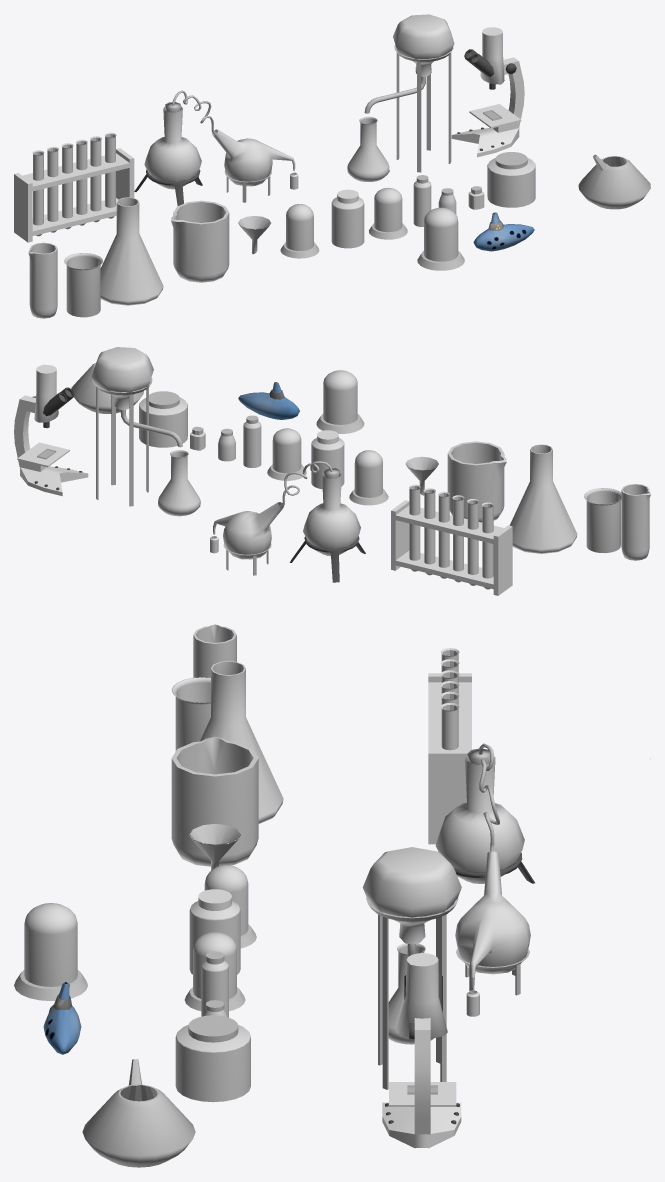
File: lab_assets.fbx
3 views of the same model, one above another, from view 1: azimuth 30°, elevation 25°; view 2: azimuth 150°, elevation 25°; view 3: azimuth 270°, elevation 25° (orthographic). The views are drawn at different scales.
Parts seen in each view (by area): view 1: polySurface4986, lab_assets25:test, polySurface5141, polySurface5164, lab_assets25:pCylinder4, lab_assets25:polySurface1, lab_assets25:small_pot, lab_assets25:pCylinder50, lab_assets25:glas_bell, polySurface5139, lab_assets25:polySurface33, polySurface5162 (+5 smaller); view 2: polySurface4986, polySurface5141, lab_assets25:test, polySurface5164, lab_assets25:pCylinder4, lab_assets25:polySurface1, lab_assets25:glas_bell, polySurface5139, lab_assets25:pCylinder50, lab_assets25:polySurface33, lab_assets25:polySurface42, lab_assets25:gas_bell (+6 smaller); view 3: polySurface5141, lab_assets25:test, lab_assets25:polySurface1, polySurface5164, lab_assets25:small_pot, polySurface4986, lab_assets25:pCylinder50, lab_assets25:glas_bell, lab_assets25:pCylinder4, polySurface5162, polySurface5139, lab_assets25:gas_bell (+5 smaller).
Boxes of the visible parts, x1,y1,x2,y2 form: polySurface4986: (14, 132, 134, 242); lab_assets25:test: (347, 14, 454, 181); polySurface5141: (134, 90, 298, 205); polySurface5164: (451, 27, 524, 157); lab_assets25:pCylinder4: (100, 197, 163, 305); lab_assets25:polySurface1: (171, 200, 229, 282); lab_assets25:small_pot: (578, 154, 650, 209); lab_assets25:pCylinder50: (487, 152, 535, 207); lab_assets25:glas_bell: (417, 207, 464, 270); polySurface5139: (64, 253, 102, 317); lab_assets25:polySurface33: (28, 242, 57, 318); polySurface5162: (331, 189, 364, 248); polySurface4986: (391, 484, 512, 595); polySurface5141: (210, 461, 365, 582); lab_assets25:test: (91, 347, 200, 516); polySurface5164: (14, 364, 88, 496); lab_assets25:pCylinder4: (509, 444, 577, 553); lab_assets25:polySurface1: (447, 441, 506, 522); lab_assets25:glas_bell: (316, 370, 364, 433); polySurface5139: (584, 488, 621, 553); lab_assets25:pCylinder50: (139, 391, 187, 447); lab_assets25:polySurface33: (621, 484, 650, 560); lab_assets25:polySurface42: (349, 450, 388, 505); lab_assets25:gas_bell: (267, 428, 306, 480); polySurface5141: (435, 743, 534, 1016); lab_assets25:test: (362, 847, 461, 1089); lab_assets25:polySurface1: (171, 736, 258, 866); polySurface5164: (382, 953, 461, 1148); lab_assets25:small_pot: (82, 1059, 195, 1167); polySurface4986: (428, 648, 471, 844); lab_assets25:pCylinder50: (175, 1015, 250, 1102); lab_assets25:glas_bell: (14, 903, 87, 1000); lab_assets25:pCylinder4: (200, 661, 283, 823); polySurface5162: (189, 889, 240, 974); polySurface5139: (171, 677, 210, 750); lab_assets25:gas_bell: (184, 932, 245, 1010).
Bounding box in the file's own units: 11.43 × 2.82 × 6.84.
Materials: 13 (3 with a texture image).
